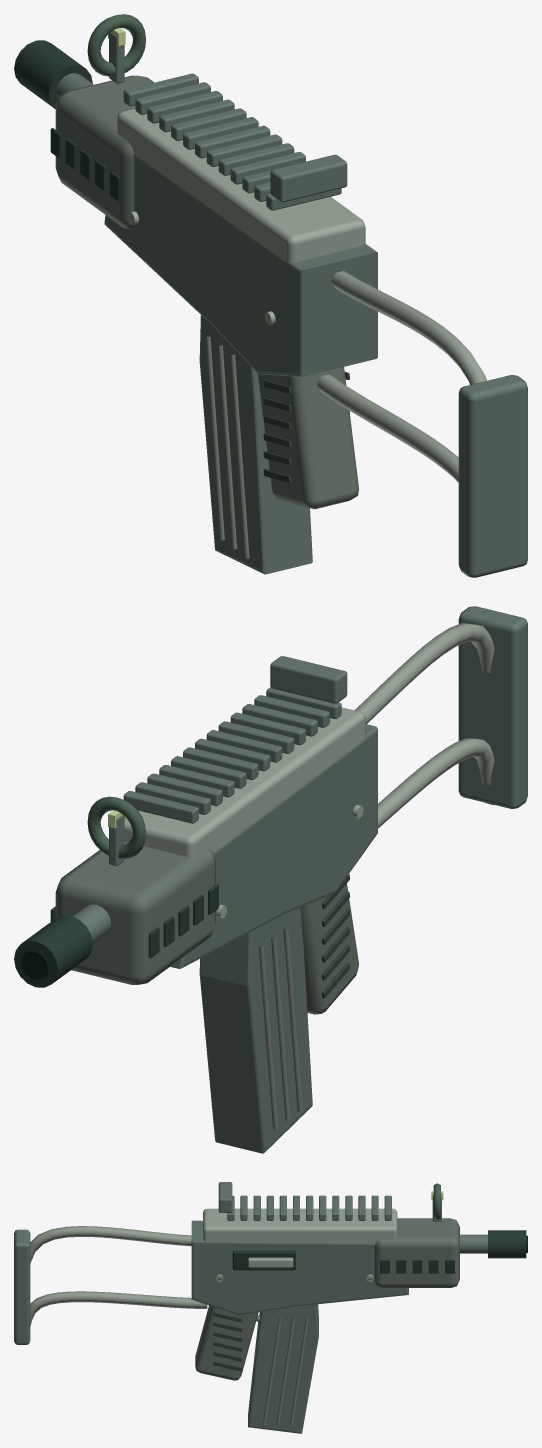
The model's file is ump45.glb.
3 renders of one model, top to bottom at view 1: azimuth 30°, elevation 25°; view 2: azimuth 150°, elevation 25°; view 3: azimuth 270°, elevation 25°, orthographic. The views are drawn at different scales.
Visible parts, largest first — view 1: ump45, magazine; view 2: ump45, magazine; view 3: ump45, magazine, bolt.
Part boxes in pixels (x1,y1,x2,y2): ump45: (14, 14, 527, 577); magazine: (199, 315, 312, 574); ump45: (14, 606, 527, 1014); magazine: (199, 907, 312, 1153); ump45: (14, 1182, 527, 1380); magazine: (248, 1304, 318, 1433); bolt: (232, 1250, 295, 1270).
Size of the model in its own units: 0.1485 by 0.5926 by 1.14.
